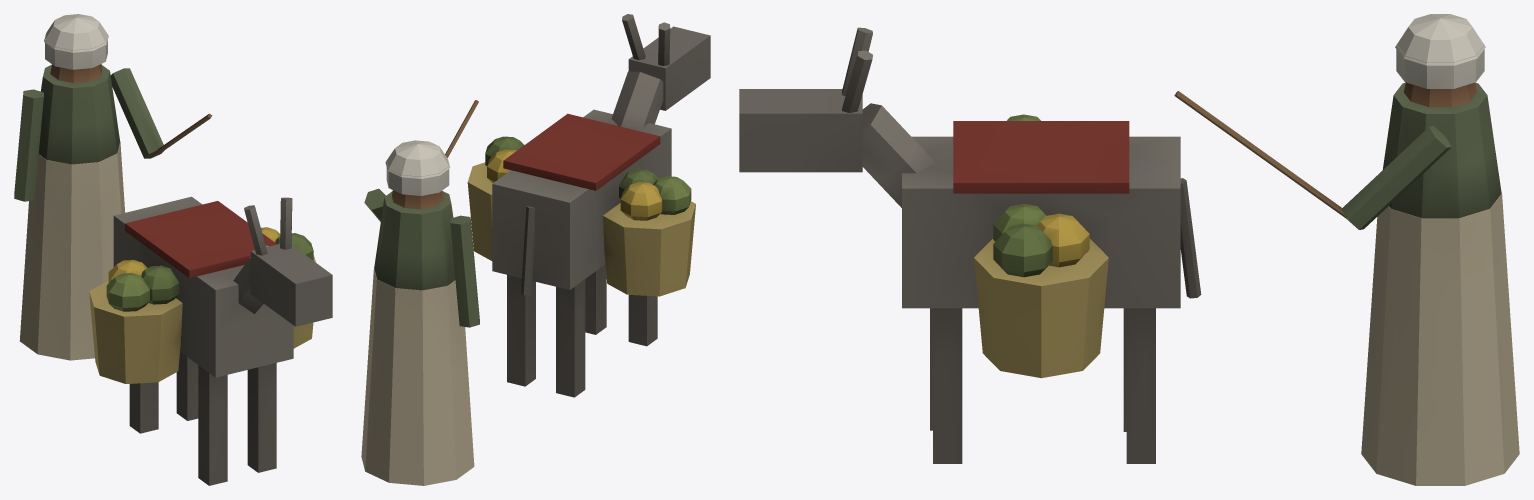
File: handcart.glb
3 renders of one model, left to right at view 1: azimuth 30°, elevation 25°; view 2: azimuth 150°, elevation 25°; view 3: azimuth 270°, elevation 25°, orthographic. The views are drawn at different scales.
Parts seen in each view (by area): view 1: base; view 2: base; view 3: base.
Part boxes in pixels (x1,y1,x2,y2): base: (14, 14, 332, 485); base: (361, 14, 710, 485); base: (739, 14, 1519, 485).
Size of the model in its own units: 1.18 by 1.64 by 2.66.
